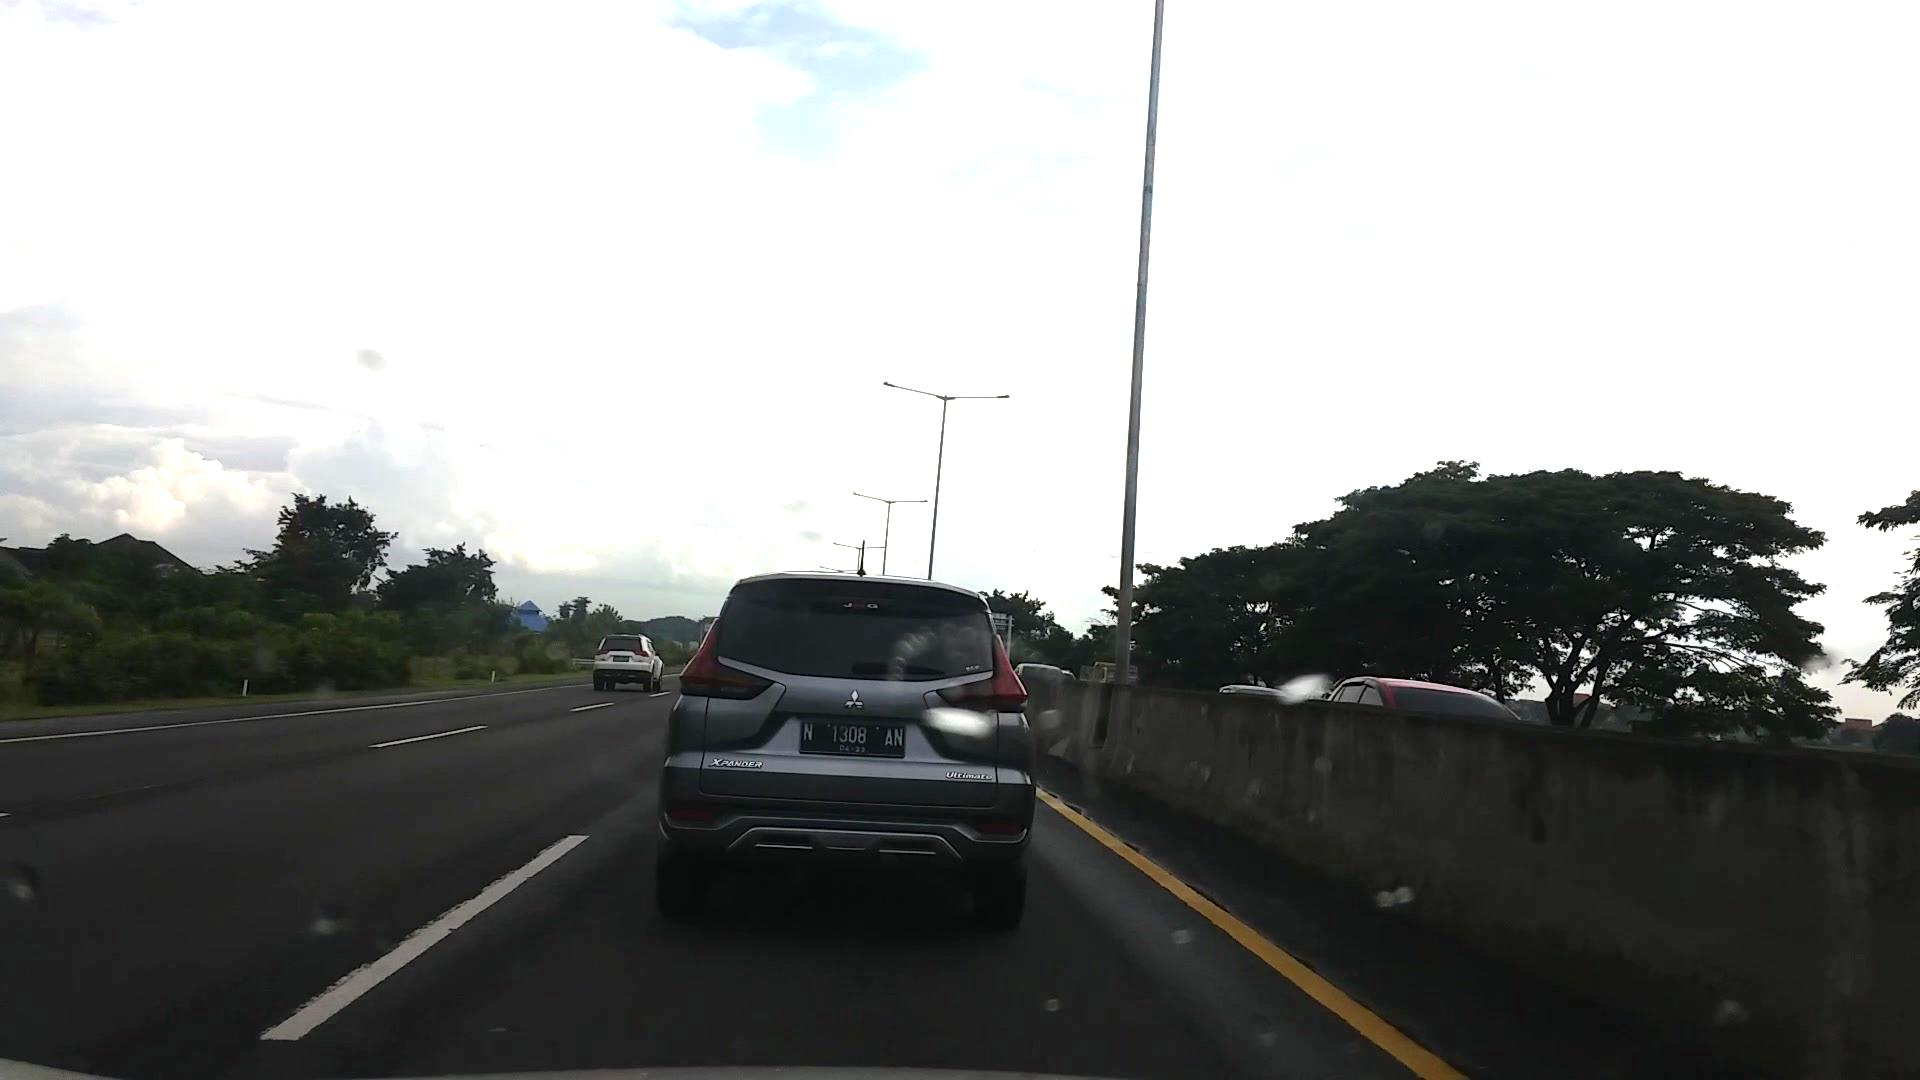plate_positive: (798, 721, 905, 758)
